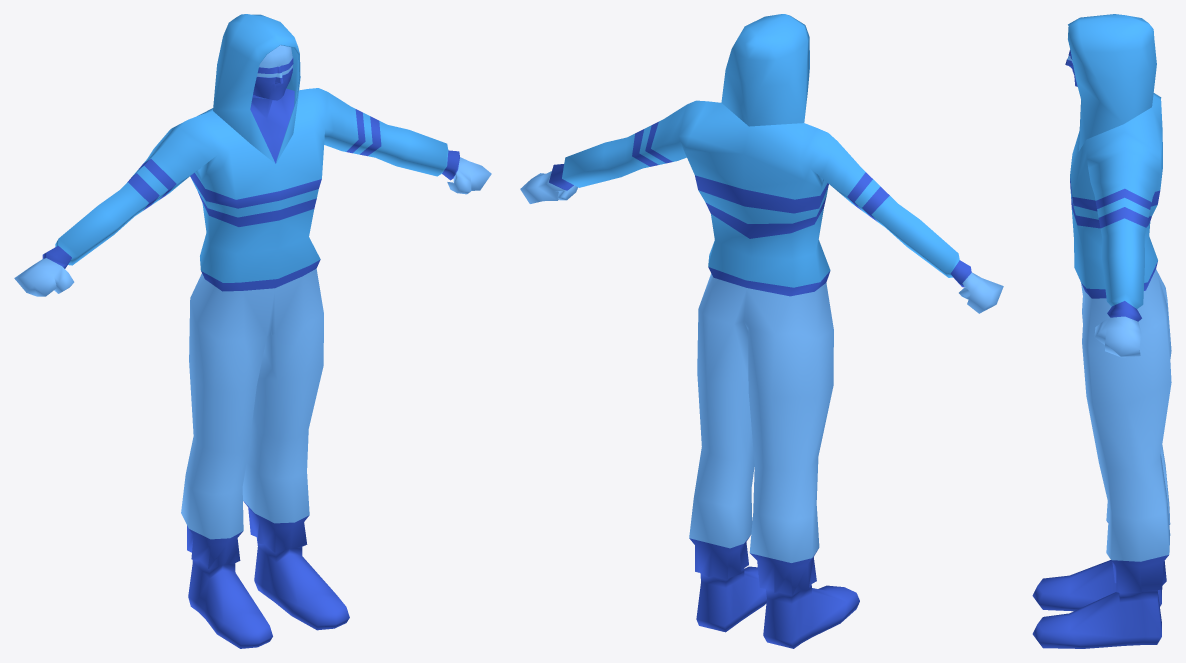
Rendered from ethrealCharacter.fbx.
3 renders of one model, left to right at view 1: azimuth 30°, elevation 25°; view 2: azimuth 150°, elevation 25°; view 3: azimuth 270°, elevation 25°, orthographic. The views are drawn at different scales.
Parts seen in each view (by area): view 1: Base, Hood, Mask, head2; view 2: Base, Hood; view 3: Base, Hood.
Part boxes in pixels (left/top/right/bottom): Base: left=14, top=88, right=491, bottom=648; Hood: left=213, top=14, right=300, bottom=163; Mask: left=252, top=67, right=292, bottom=100; head2: left=257, top=45, right=292, bottom=77; Base: left=520, top=100, right=1003, bottom=648; Hood: left=721, top=14, right=809, bottom=126; Base: left=1032, top=93, right=1171, bottom=648; Hood: left=1068, top=14, right=1156, bottom=151.
Size of the model in its own units: 158 by 192 by 40.16.
